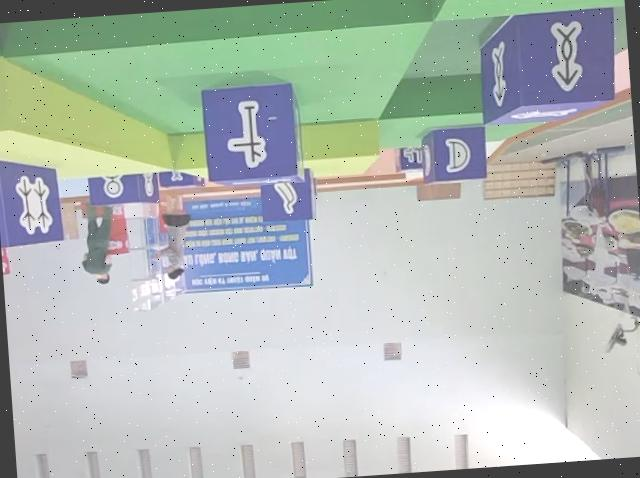R2 Real Blue: (475, 5, 617, 124), (199, 78, 305, 187), (0, 153, 60, 248), (419, 122, 487, 183), (257, 165, 317, 222), (86, 169, 158, 206)
